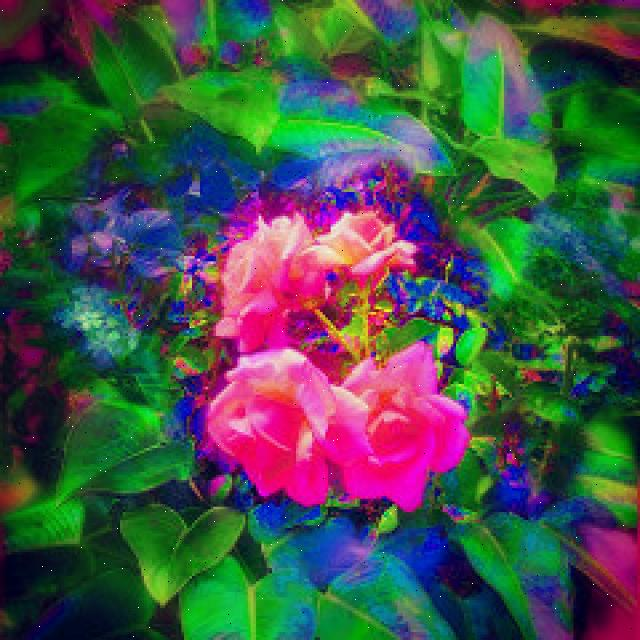Bloomed: (204, 336, 332, 540), (354, 332, 474, 540)
